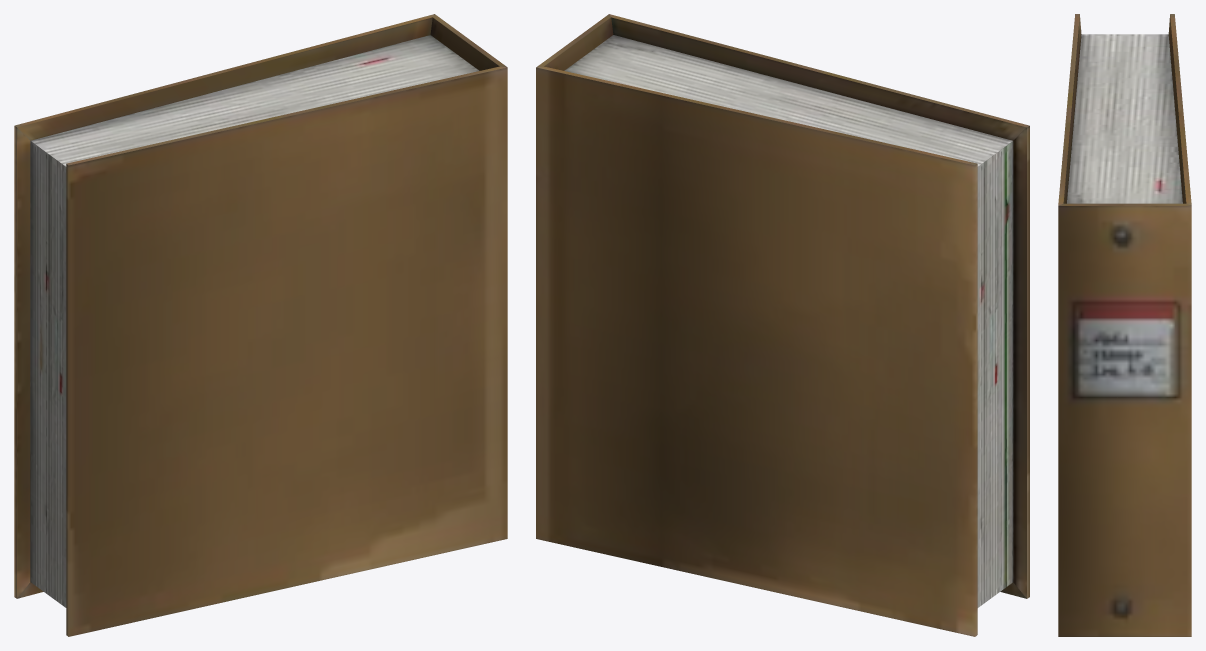
The picture shows the model from 3 angles, left to right: view 1: azimuth 30°, elevation 25°; view 2: azimuth 150°, elevation 25°; view 3: azimuth 270°, elevation 25°; orthographic projection. The views are drawn at different scales.
Visible parts, largest first — view 1: body0_model0_lod0_mesh0; view 2: body0_model0_lod0_mesh0; view 3: body0_model0_lod0_mesh0.
Boxes of the visible parts, x1,y1,x2,y2 form: body0_model0_lod0_mesh0: [14, 14, 507, 636]; body0_model0_lod0_mesh0: [536, 14, 1029, 636]; body0_model0_lod0_mesh0: [1058, 14, 1191, 636].
Bounding box in the file's own units: 13.39 × 14.04 × 3.94.
1 material, 1 textured.
